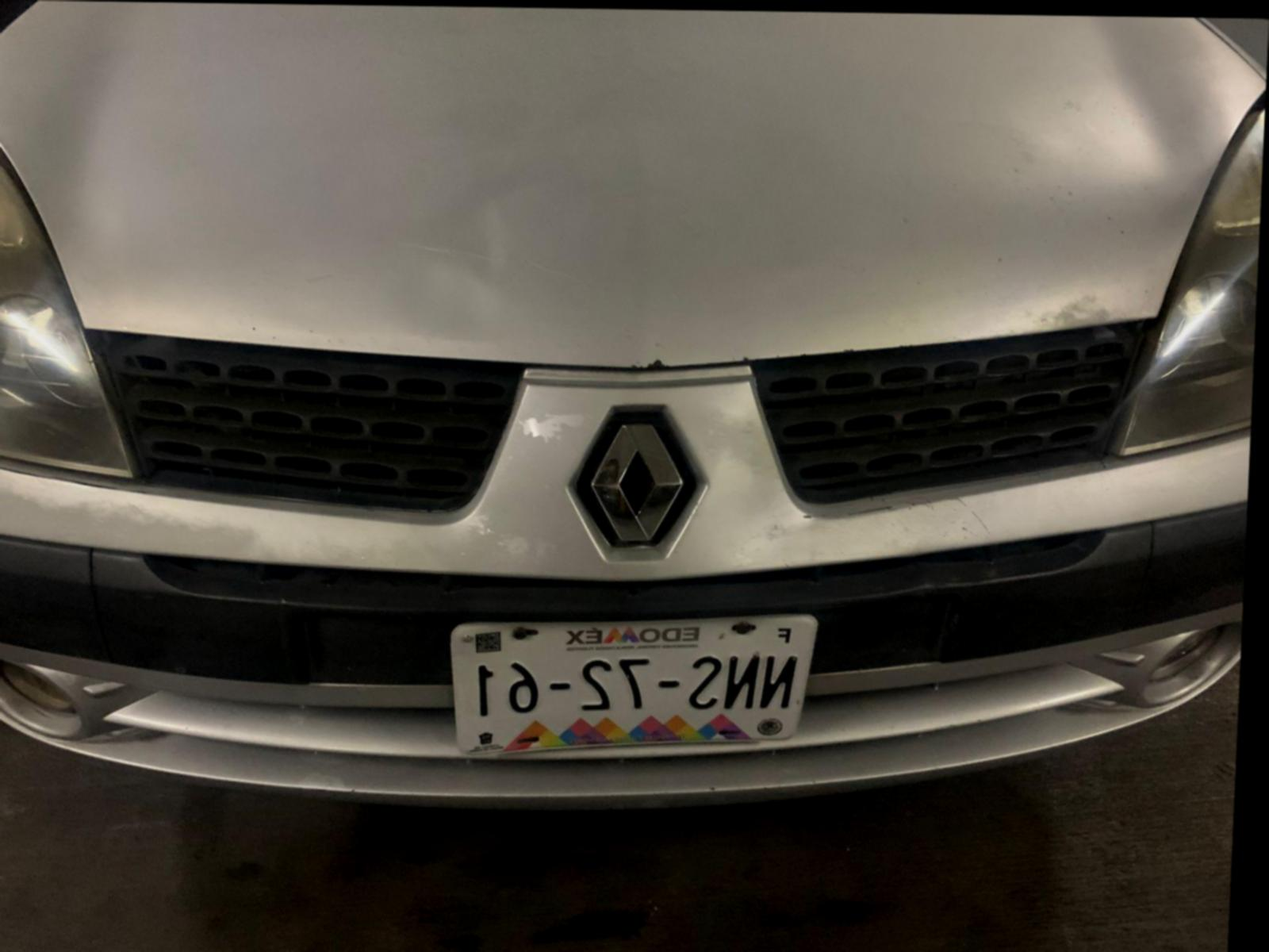License_Plate: (427, 580, 842, 790)
